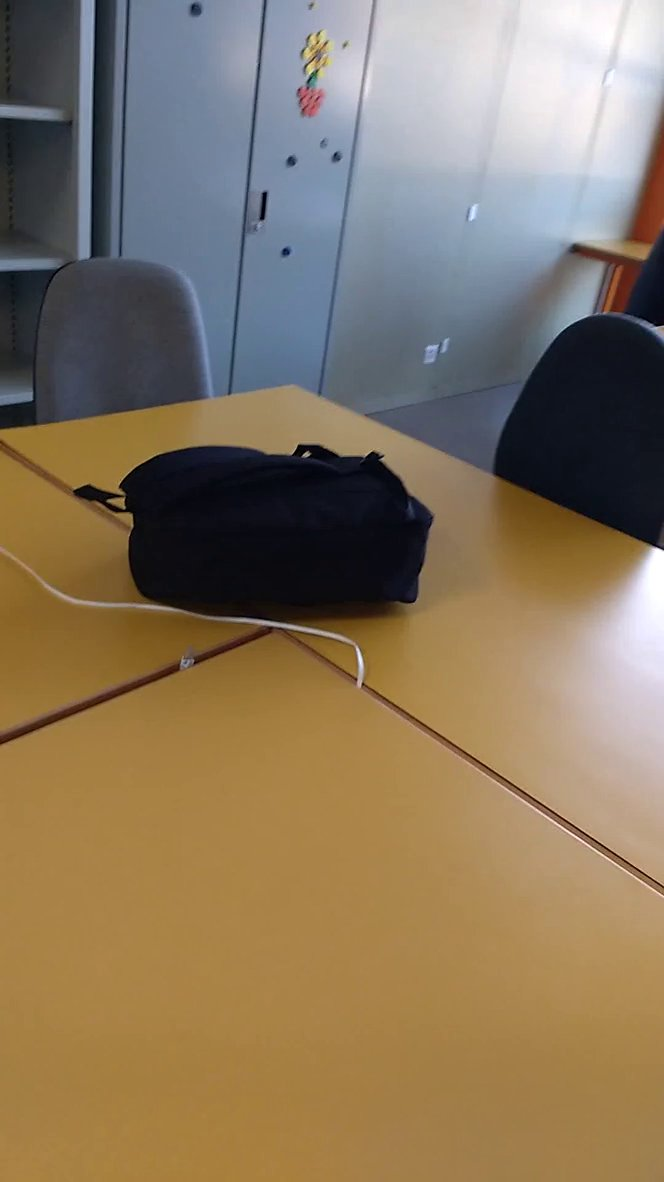bag: (64, 422, 449, 633)
chair: (475, 295, 664, 562), (24, 244, 225, 435)
